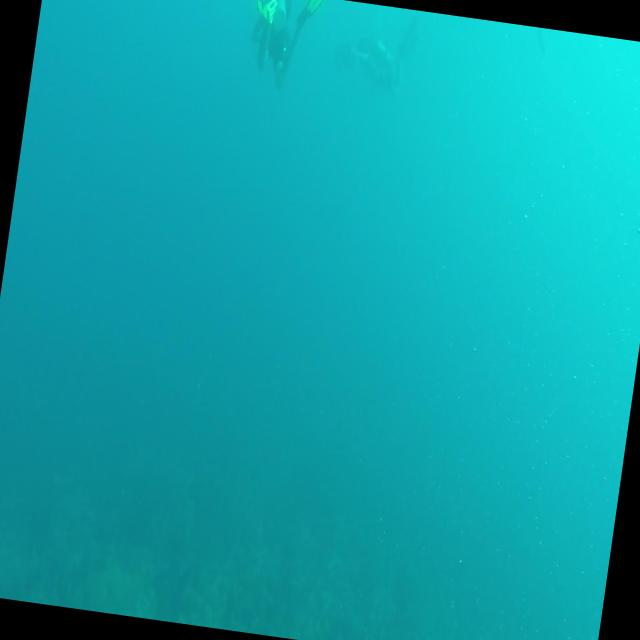human: (332, 4, 421, 95), (244, 0, 329, 94)
